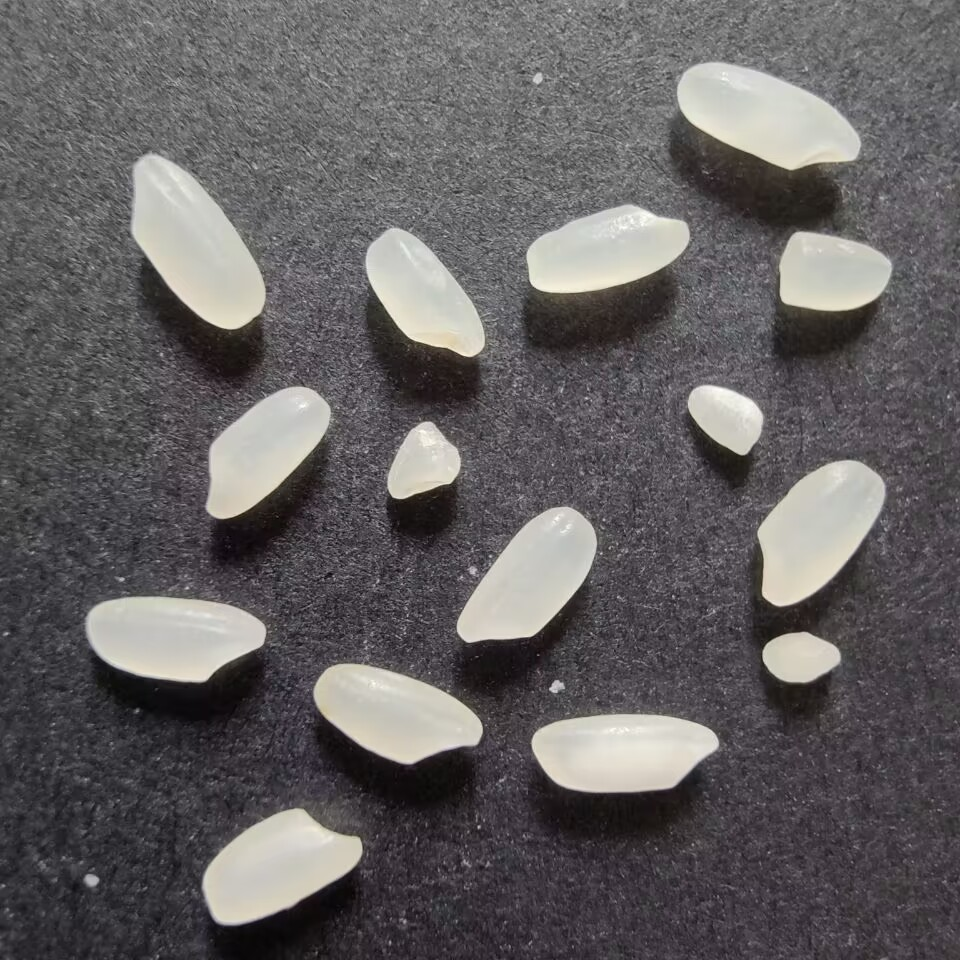broken: (771, 224, 900, 315), (384, 417, 467, 504), (684, 381, 768, 457), (758, 630, 845, 688)
rice: (120, 151, 272, 335), (197, 802, 370, 935), (672, 58, 865, 177), (750, 455, 892, 616), (451, 501, 599, 647), (202, 382, 335, 526), (310, 662, 488, 769), (80, 594, 275, 691), (525, 707, 721, 800), (360, 225, 491, 364), (521, 202, 693, 295)
